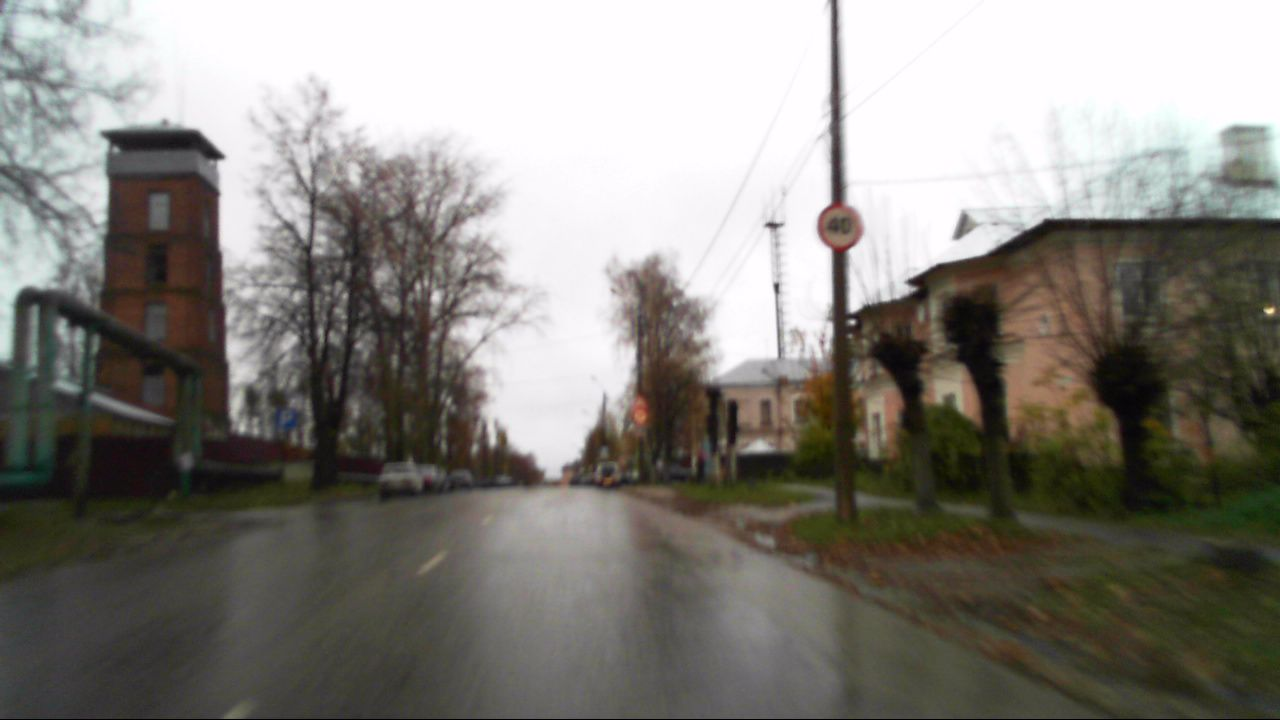speed_warning_40: (818, 203, 863, 251)
